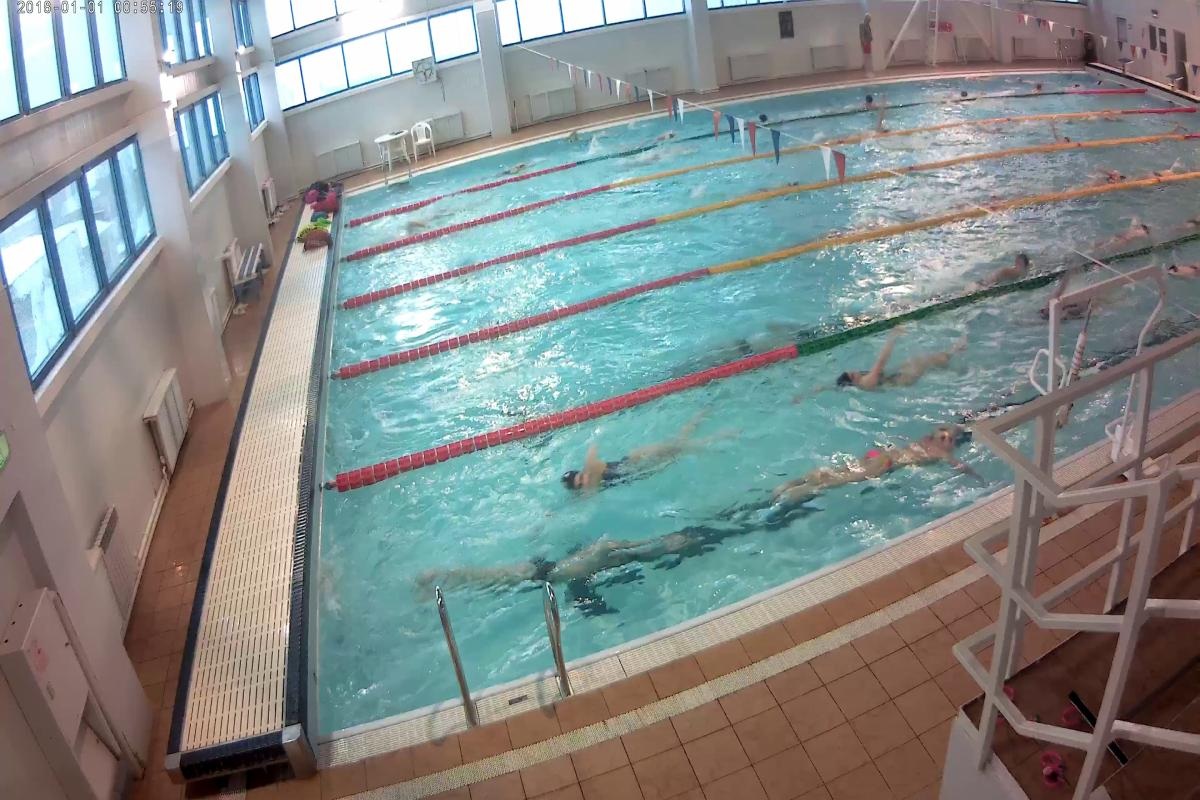swimmer: (543, 410, 729, 504), (787, 421, 964, 507), (461, 537, 684, 604), (820, 340, 963, 399), (978, 242, 1044, 290), (1092, 213, 1164, 257), (1027, 120, 1076, 149), (1089, 160, 1128, 184), (1168, 254, 1198, 278)
